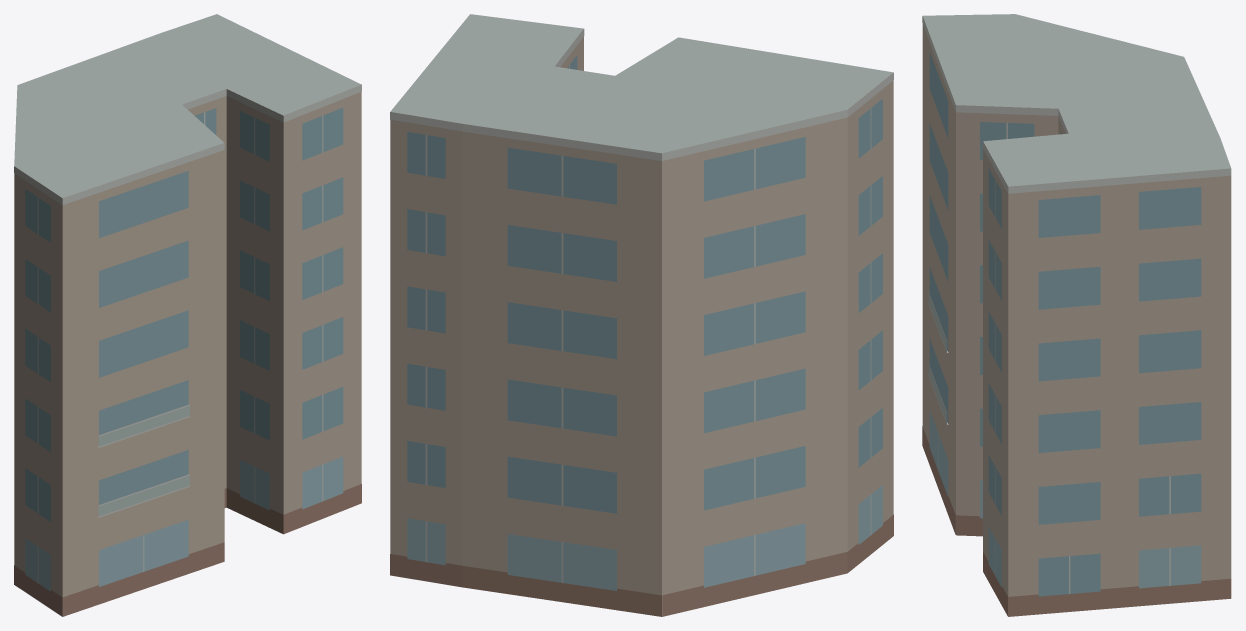
The model's file is survey-upis-32469522.glb.
3 views of the same model, side by side, from view 1: azimuth 30°, elevation 25°; view 2: azimuth 150°, elevation 25°; view 3: azimuth 270°, elevation 25° (orthographic). The views are drawn at different scales.
Visible parts, largest first — view 1: survey-upis-32469522.tmp; view 2: survey-upis-32469522.tmp; view 3: survey-upis-32469522.tmp.
Part boxes in pixels (x1=…): survey-upis-32469522.tmp: x1=14, y1=14, x2=361, y2=616; survey-upis-32469522.tmp: x1=390, y1=14, x2=893, y2=616; survey-upis-32469522.tmp: x1=922, y1=14, x2=1231, y2=616.
Bounding box in the file's own units: 12.66 × 14.7 × 9.57.
